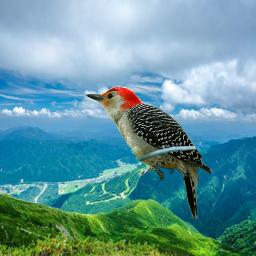Woodpecker: (85, 86, 211, 220)
